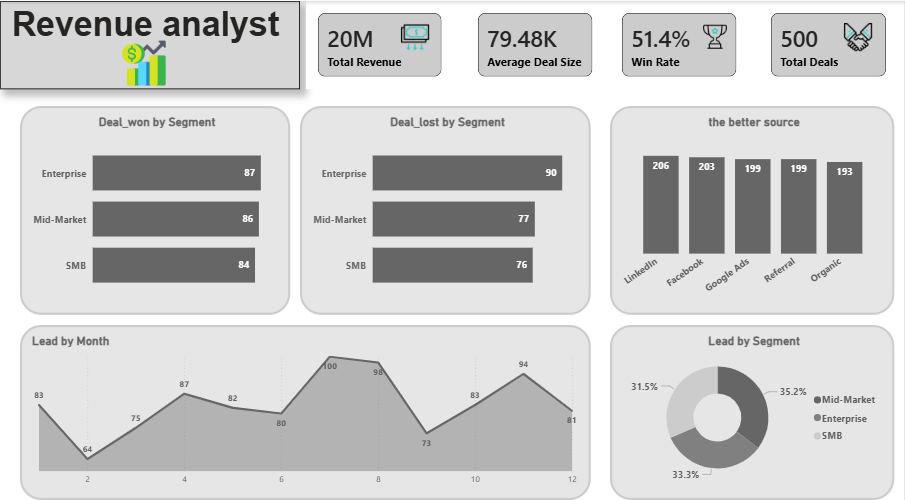

Layout of this report page (visuals, bound fields, positions):
{"tool":"powerbi","page":{"name":"Revenue","canvas":[1280,720],"ordinal":0},"visuals":[{"type":"textbox","box":[0,0,425.2,124.7],"z":0},{"type":"cardVisual","fields":{"Data":["Deals.Total Deals"]},"box":[1075.7,0,197,124.7],"z":1000},{"type":"cardVisual","fields":{"Data":["Deals.Total Revenue"]},"box":[433.7,0,209.8,124.7],"z":2000},{"type":"cardVisual","fields":{"Data":["Deals.Average Deal Size"]},"box":[660.2,0,196.5,124.3],"z":3000},{"type":"clusteredBarChart","fields":{"Category":["Deals.Segment"],"Y":["Deals.Deal_won"]},"box":[28.3,148.8,382.7,296.2],"z":4000},{"type":"clusteredBarChart","fields":{"Category":["Deals.Segment"],"Y":["Deals.Deal_lost"]},"box":[425.2,148.8,412.4,296.2],"z":5000},{"type":"cardVisual","fields":{"Data":["Deals.Win Rate"]},"box":[865.1,0,196.5,124.3],"z":6000},{"type":"clusteredColumnChart","title":"the better source ","fields":{"Category":["Leads.Source"],"Y":["CountNonNull(Leads.Source)"]},"box":[864.6,148.8,402.5,296.2],"z":7000},{"type":"areaChart","title":"Lead by Month","fields":{"Category":["Leads.Month"],"Y":["Leads.Total Lead"]},"box":[28.3,459.2,809.3,248],"z":8000},{"type":"donutChart","title":" Lead by Segment","fields":{"Category":["Leads.Segment"],"Y":["Leads.Total Lead"]},"box":[864.6,459.2,402.5,248],"z":9000},{"type":"image","box":[154.5,51,99.2,73.7],"z":10000},{"type":"image","box":[561.3,31.2,53.9,39.7],"z":11000},{"type":"image","box":[996.4,22.7,34,55.3],"z":12000},{"type":"image","box":[1189.1,31.2,53.9,39.7],"z":13000}]}

Visuals, with their boxes in screenshot pixels (x1, y1, x2, y2), scaled from the page's 1280x720 canvas onto the 905x500 screenshot:
textbox: 0:0:301:87
cardVisual - Deals.Total Deals: 761:0:900:87
cardVisual - Deals.Total Revenue: 307:0:455:87
cardVisual - Deals.Average Deal Size: 467:0:606:86
clusteredBarChart - Deals.Segment x Deals.Deal_won: 20:103:291:309
clusteredBarChart - Deals.Segment x Deals.Deal_lost: 301:103:592:309
cardVisual - Deals.Win Rate: 612:0:751:86
"the better source " clusteredColumnChart: 611:103:896:309
"Lead by Month" areaChart: 20:319:592:491
" Lead by Segment" donutChart: 611:319:896:491
image: 109:35:179:87
image: 397:22:435:49
image: 704:16:729:54
image: 841:22:879:49
